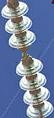gap: (8, 29, 44, 75)
